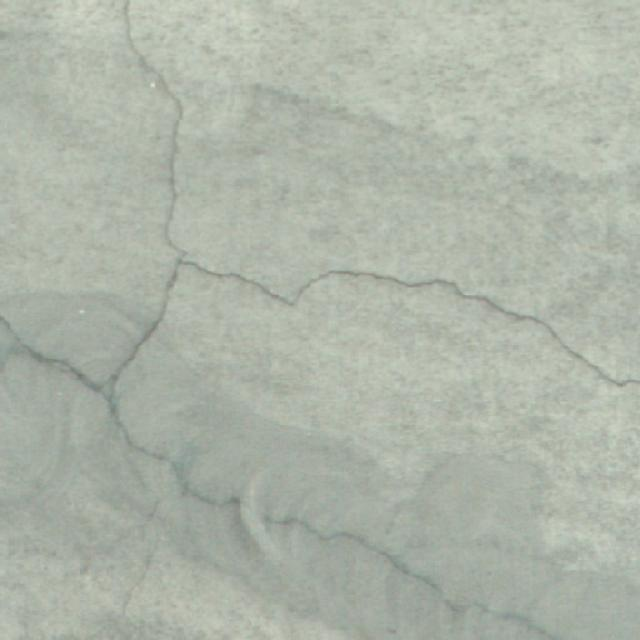Network: (2, 0, 639, 640)
